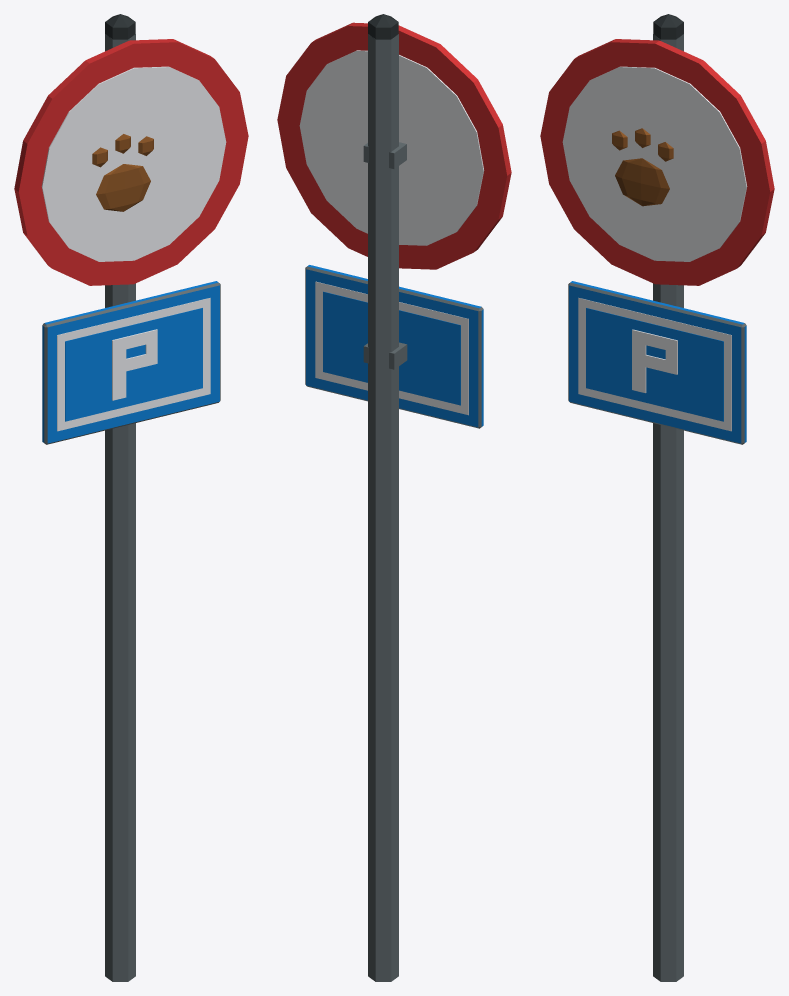
The model's file is verkehrsschild.glb.
The picture shows the model from 3 angles, left to right: view 1: azimuth 30°, elevation 25°; view 2: azimuth 150°, elevation 25°; view 3: azimuth 330°, elevation 25°; orthographic projection.
Parts seen in each view (by area): view 1: verkehrsschild-m; view 2: verkehrsschild-m; view 3: verkehrsschild-m.
Boxes of the visible parts, bbox=[...] form: verkehrsschild-m: bbox=[14, 14, 248, 981]; verkehrsschild-m: bbox=[277, 14, 511, 981]; verkehrsschild-m: bbox=[540, 14, 774, 981].
Bounding box in the file's own units: 0.6 × 2.4 × 0.1082.
